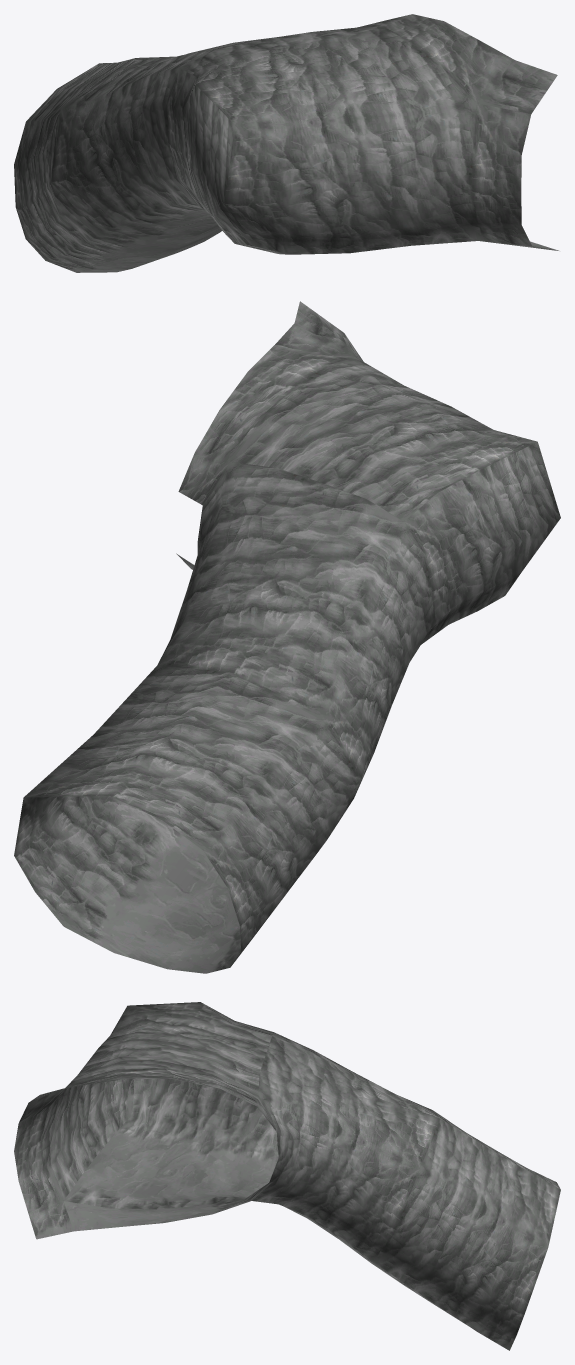
File: SWORDLIGHT20_PS-AREA02-03TRANS_08.fbx
3 views of the same model, one above another, from view 1: azimuth 30°, elevation 25°; view 2: azimuth 150°, elevation 25°; view 3: azimuth 270°, elevation 25° (orthographic). The views are drawn at different scales.
Visible parts, largest first — view 1: SWORDLIGHT20_PS-AREA02-03TRANS_08; view 2: SWORDLIGHT20_PS-AREA02-03TRANS_08; view 3: SWORDLIGHT20_PS-AREA02-03TRANS_08.
Boxes of the visible parts, box(x1,y1,x2,y2) form: SWORDLIGHT20_PS-AREA02-03TRANS_08: box(14, 14, 558, 272); SWORDLIGHT20_PS-AREA02-03TRANS_08: box(14, 301, 560, 973); SWORDLIGHT20_PS-AREA02-03TRANS_08: box(14, 1002, 560, 1350).
Size of the model in its own units: 107168 by 131871 by 214834.
5 materials, 5 textured.
